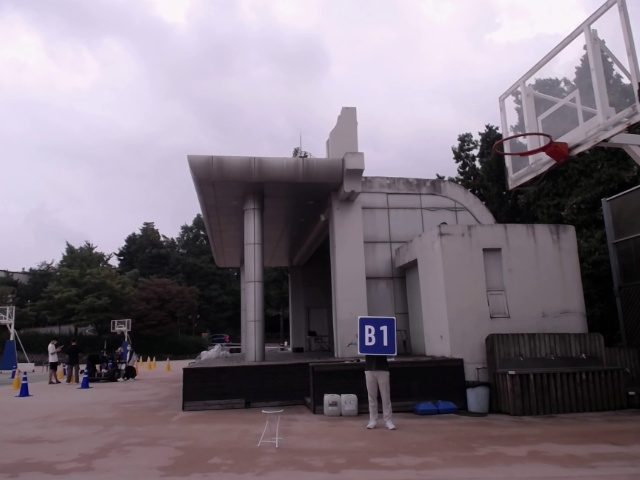delivery_b1: (358, 316, 397, 355)
